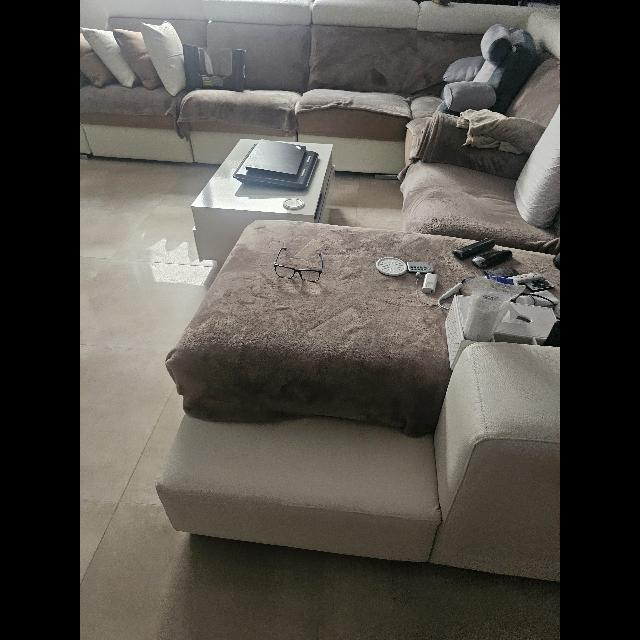glasses: (274, 246, 322, 282)
